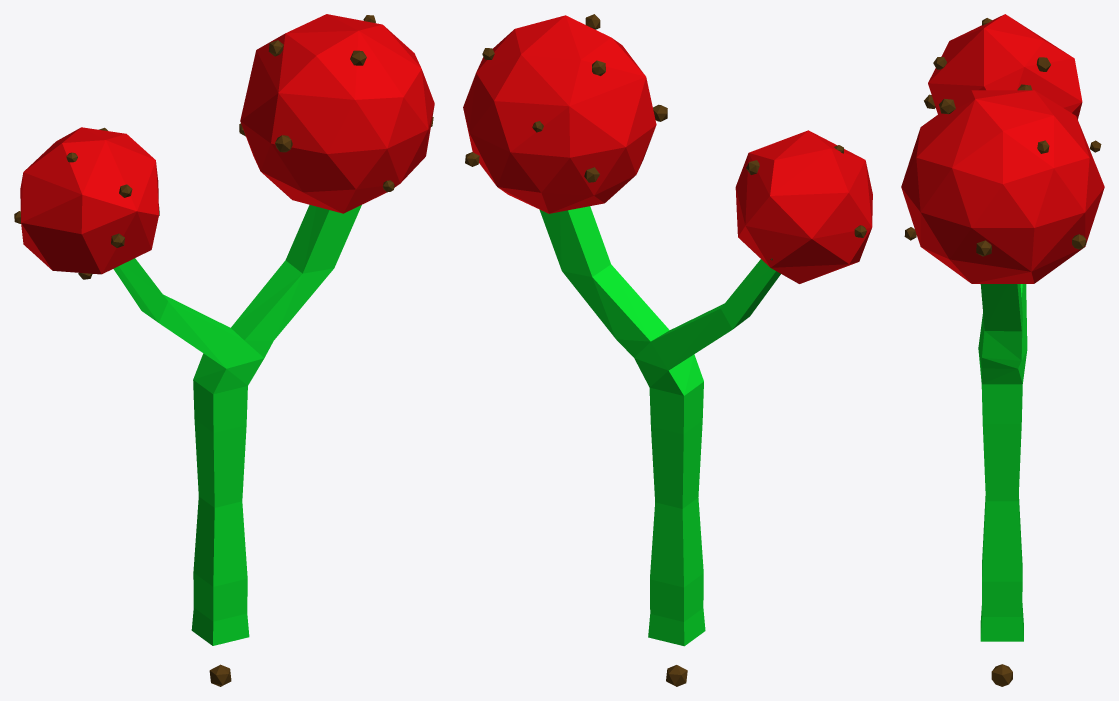
Rendered from appletree.fbx.
The picture shows the model from 3 angles, left to right: view 1: azimuth 30°, elevation 25°; view 2: azimuth 150°, elevation 25°; view 3: azimuth 270°, elevation 25°; orthographic projection. The views are drawn at different scales.
Parts seen in each view (by area): view 1: Cube; view 2: Cube; view 3: Cube.
Part boxes in pixels (bbox=[...]): Cube: bbox=[14, 14, 434, 686]; Cube: bbox=[463, 14, 872, 686]; Cube: bbox=[901, 14, 1104, 686].
Size of the model in its own units: 1351 by 2044 by 580.
